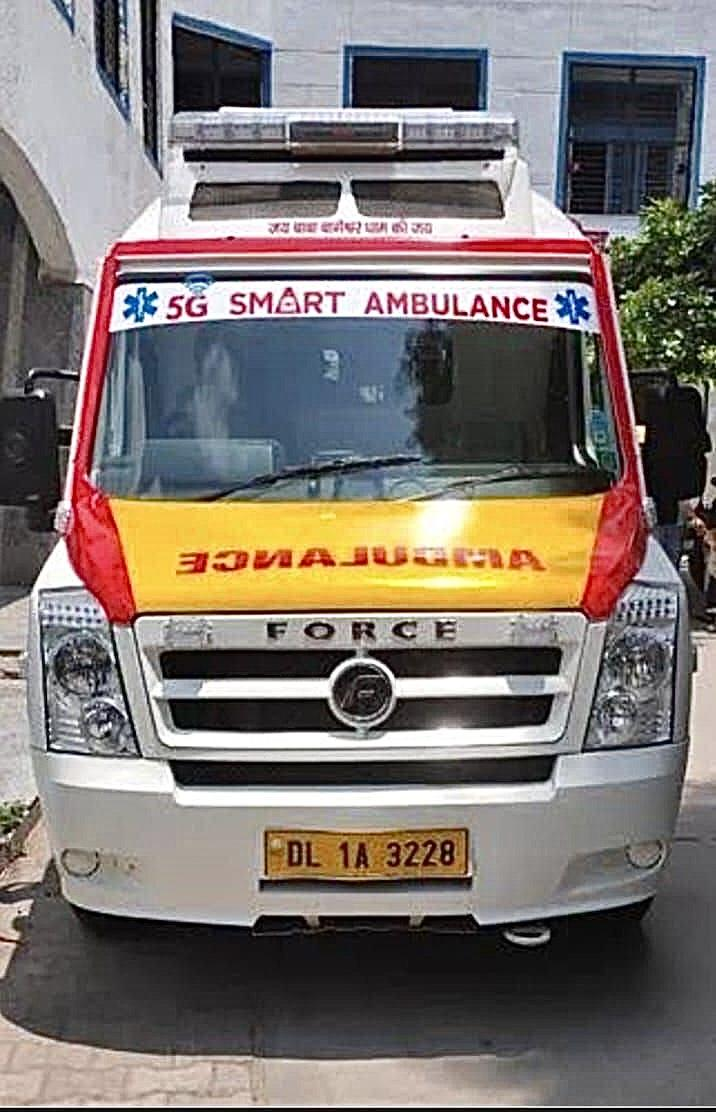ambulance: (26, 84, 710, 964)
